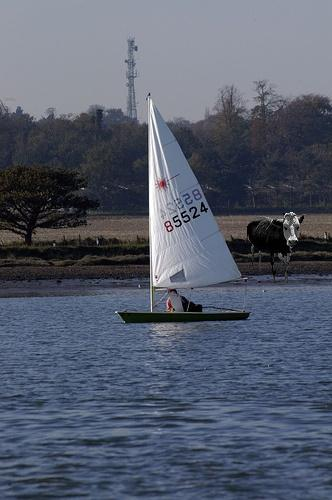tampered: (248, 213, 305, 283)
